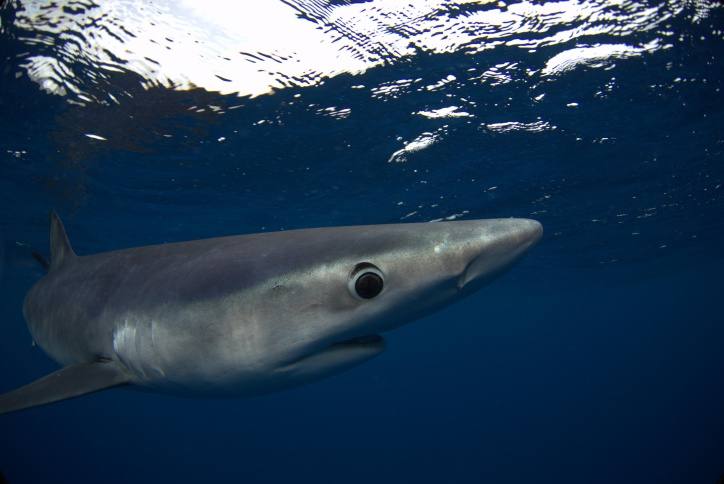Azul: (1, 199, 596, 427)
